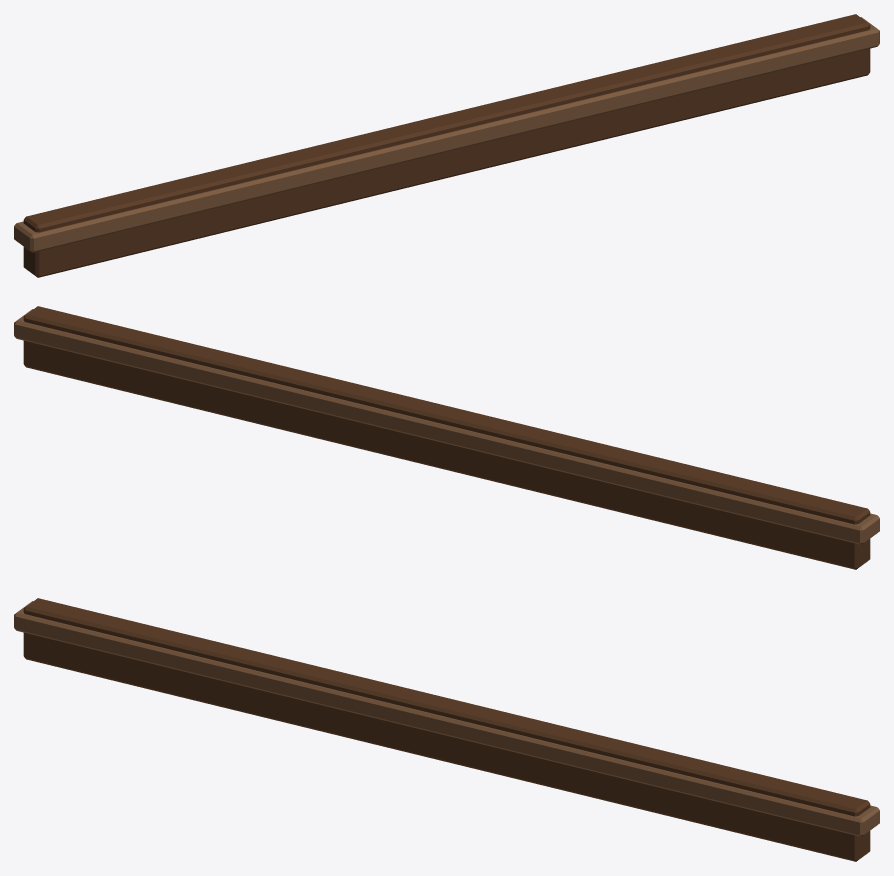
The model's file is oak_head.glb.
The picture shows the model from 3 angles, top to bottom: view 1: azimuth 30°, elevation 25°; view 2: azimuth 150°, elevation 25°; view 3: azimuth 330°, elevation 25°; orthographic projection.
Parts seen in each view (by area): view 1: oak_head; view 2: oak_head; view 3: oak_head.
Part boxes in pixels (x1,y1,x2,y2): oak_head: (14, 14, 879, 277); oak_head: (14, 306, 879, 569); oak_head: (14, 598, 879, 861).
Bounding box in the file's own units: 2.02 × 0.12 × 0.078.
